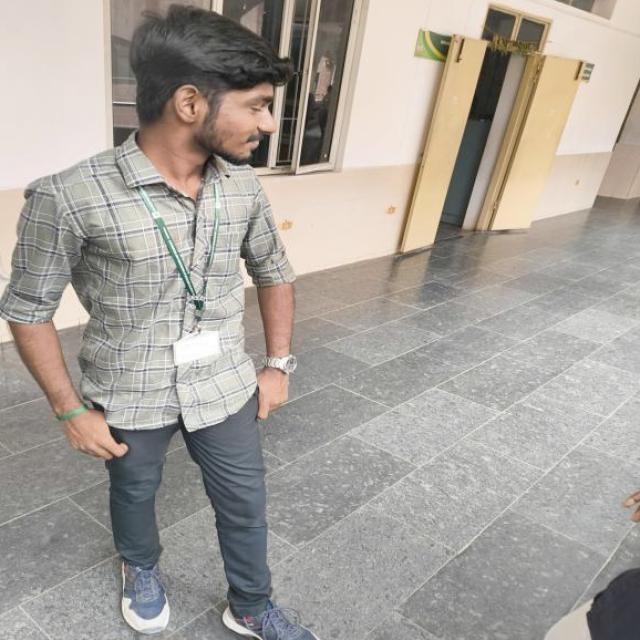ID_card: (164, 186, 225, 368)
